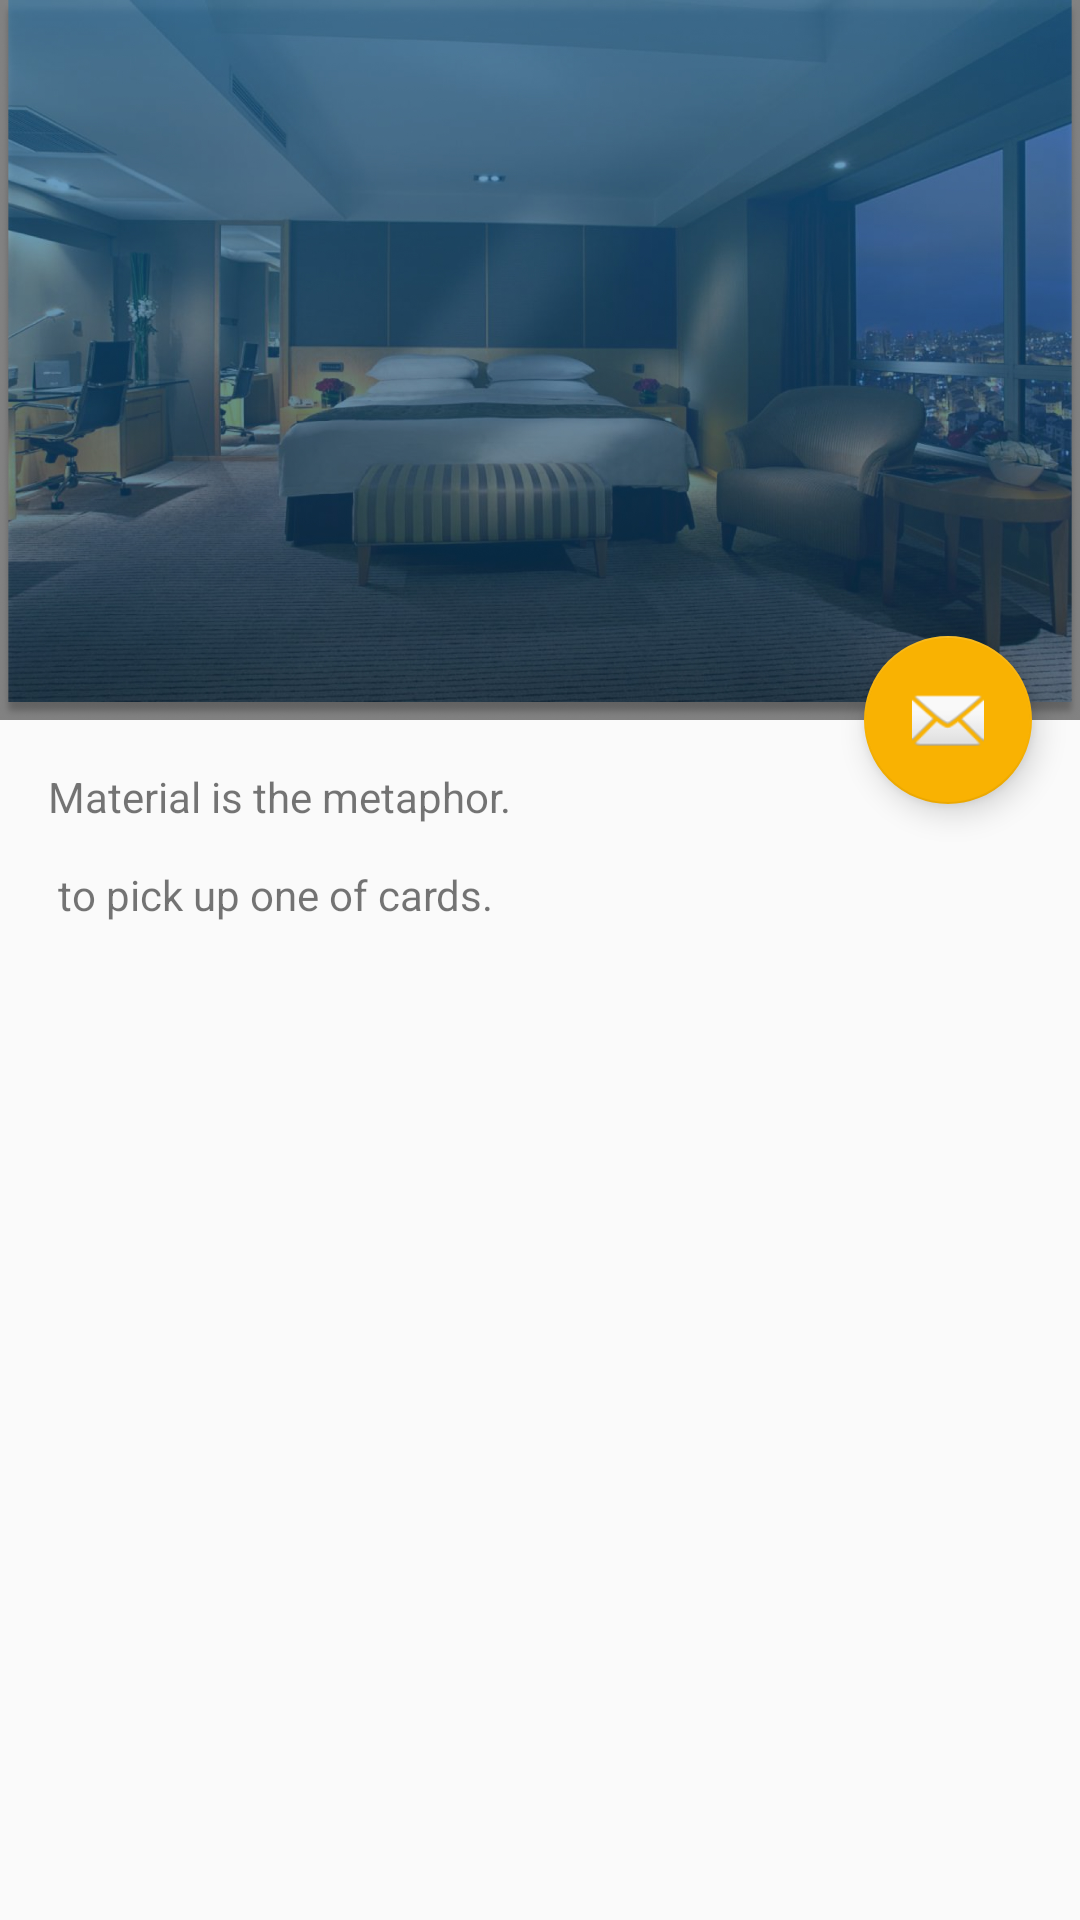

Icons on this 1080 x 1920 Android screen, each with the point to tap as (x=x, y=y):
email: (x=948, y=720)
